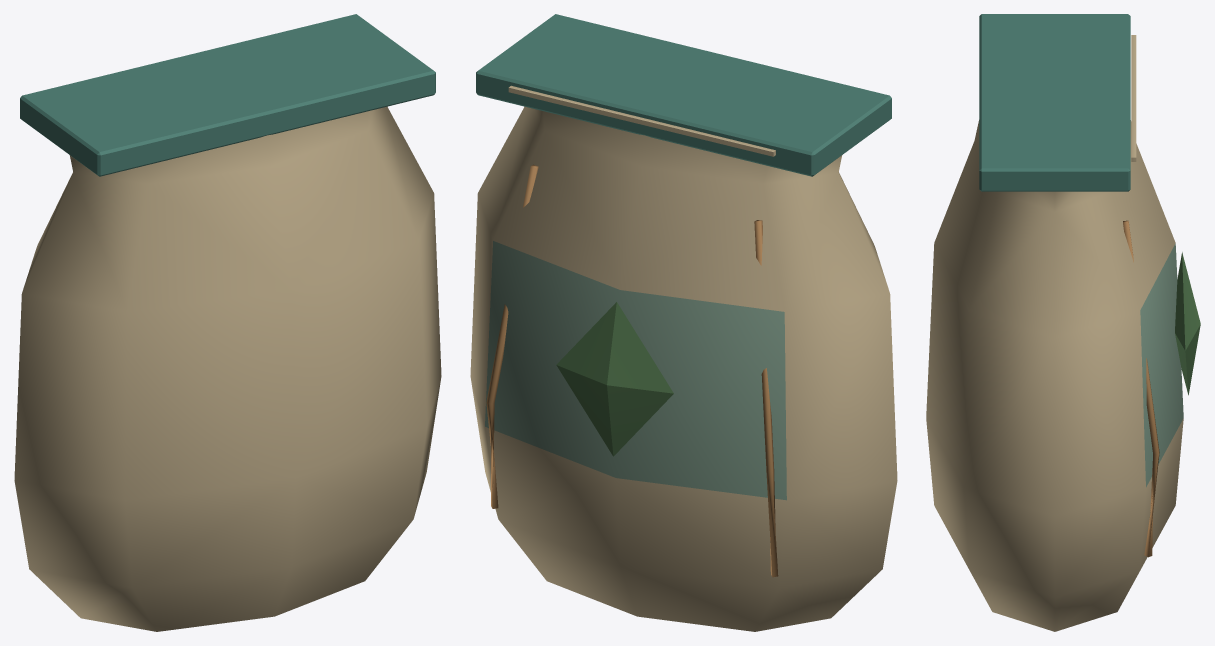
File: fertilizer_low.glb
The picture shows the model from 3 angles, left to right: view 1: azimuth 30°, elevation 25°; view 2: azimuth 150°, elevation 25°; view 3: azimuth 270°, elevation 25°; orthographic projection. The views are drawn at different scales.
Size of the model in its own units: 0.29 by 0.324 by 0.1706.
